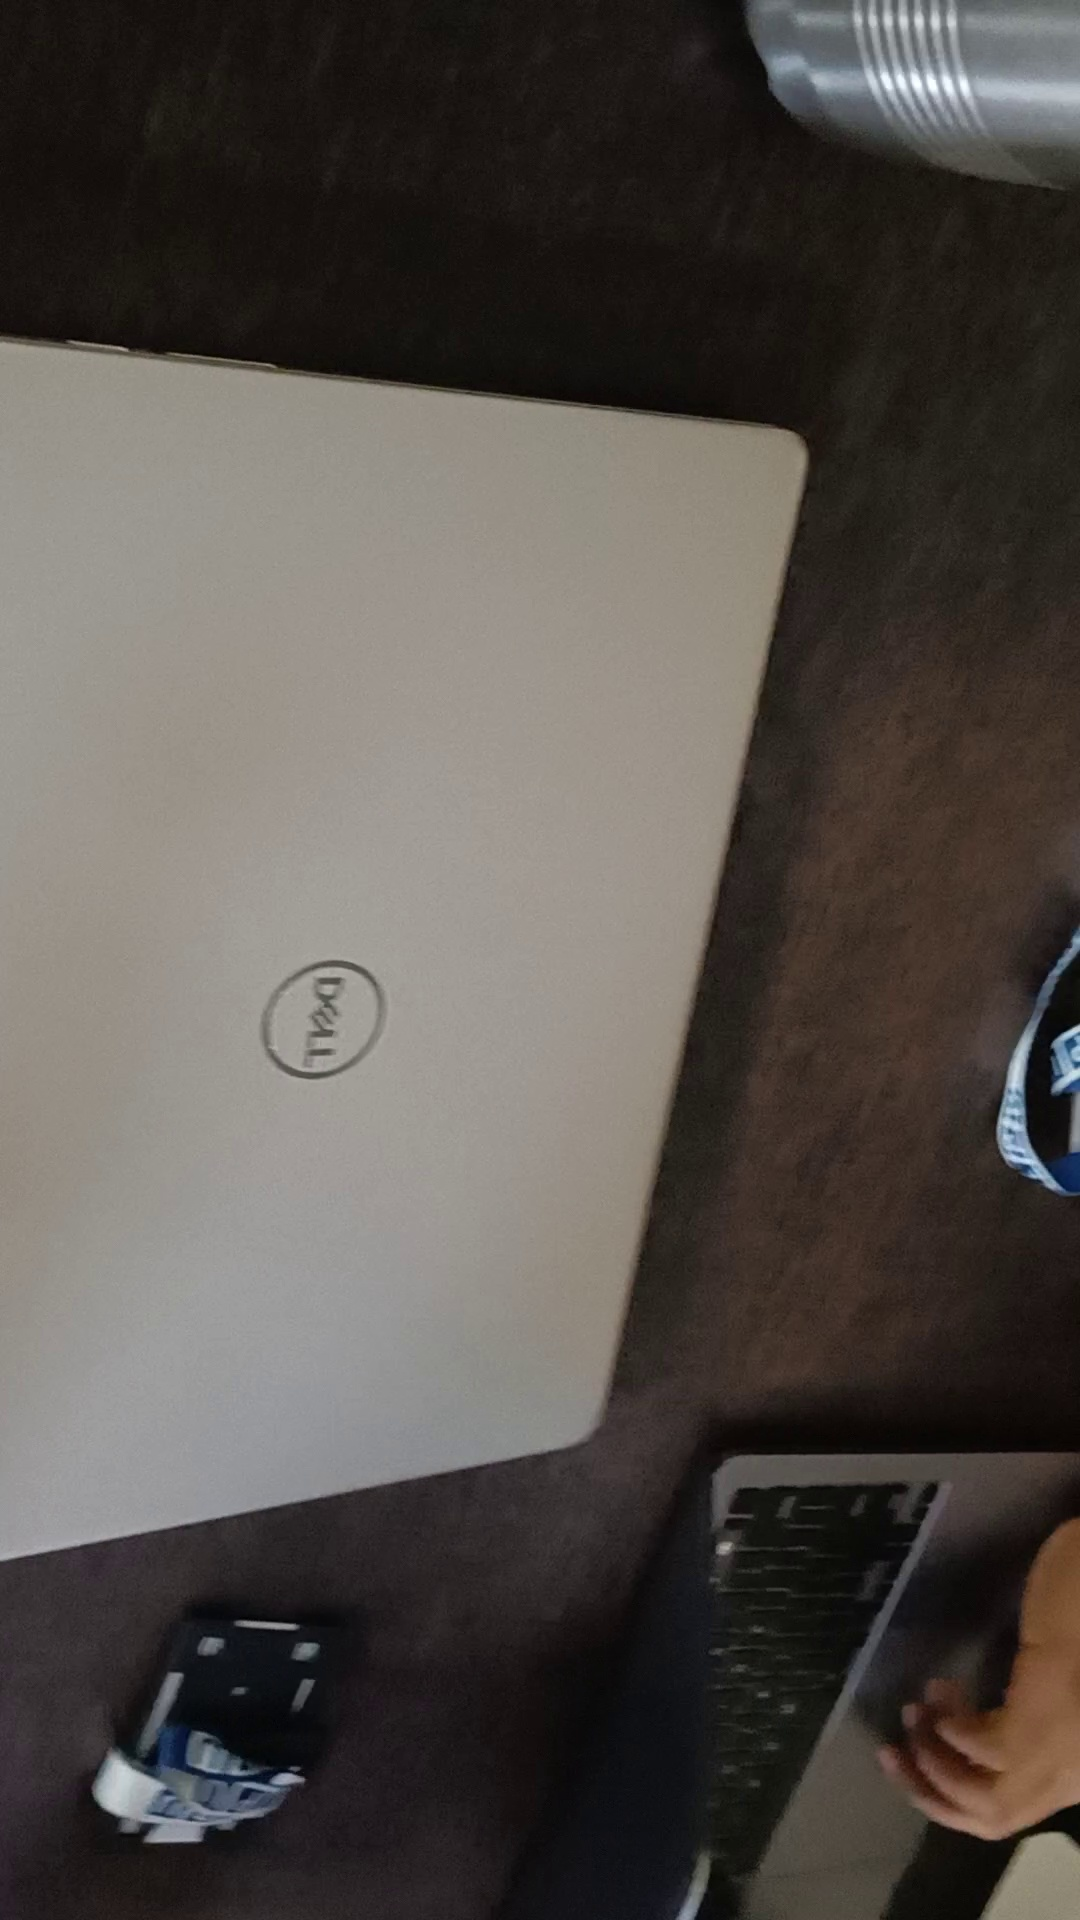laptop: (1, 359, 827, 1556)
